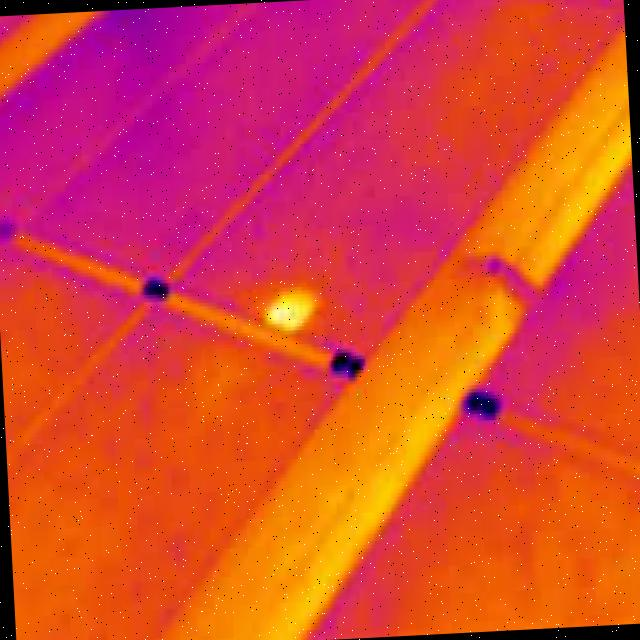Hotspot: (254, 276, 328, 342)
